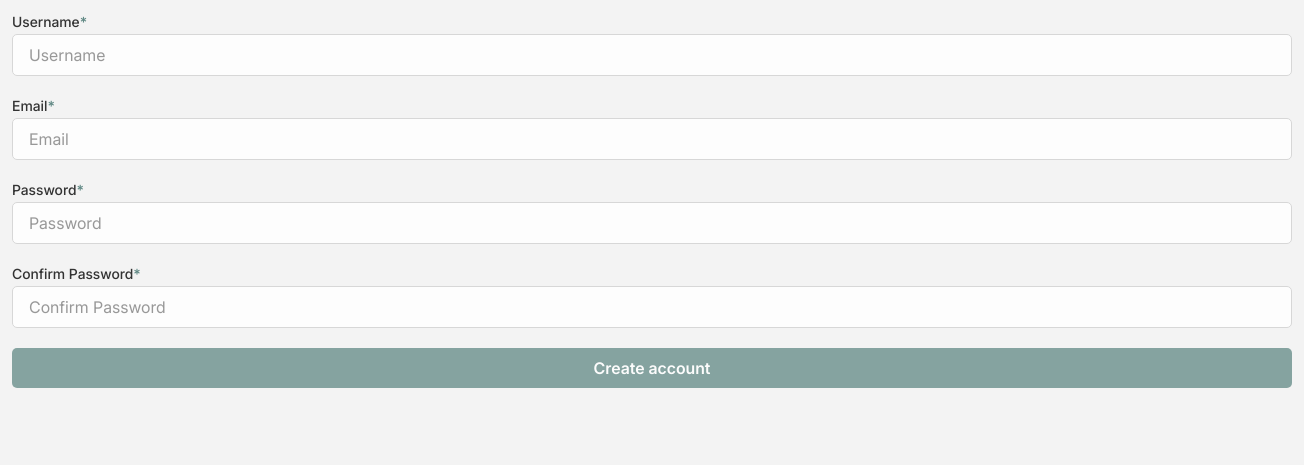
SignUpForm.tsx › should display error message to the root of the form for any other axios error
Type "username" into the field labelled "Username*" at (652, 55), box [12,34,1292,76]
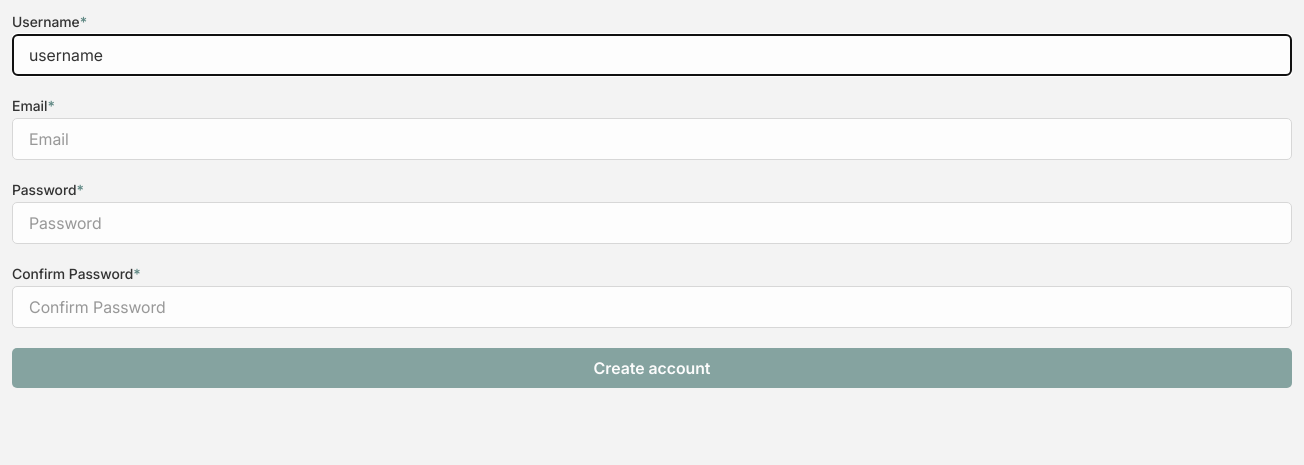
Type "email@email.com" into the field labelled "Email*" at (652, 139), box [12,118,1292,160]
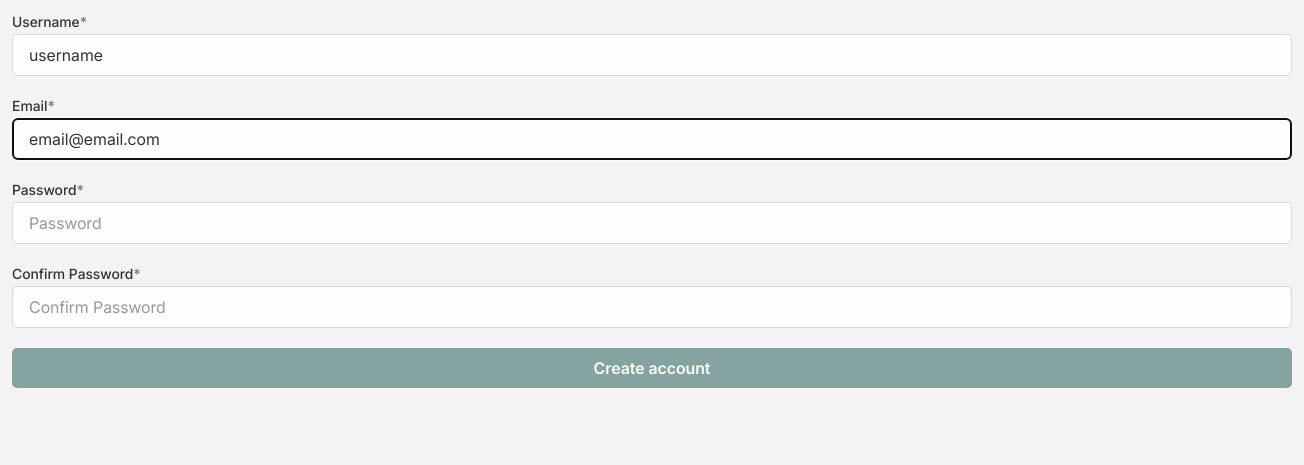
Type "!Password123" into the password field with placeholder "Password" at (652, 223), box [12,202,1292,244]
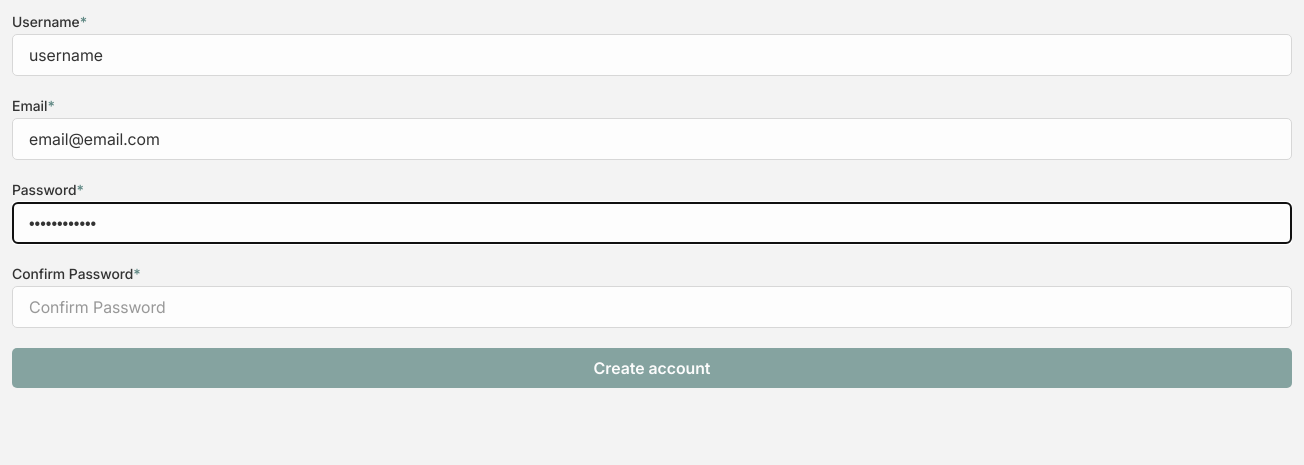
Type "!Password123" into the password field labelled "Confirm Password*" at (652, 307), box [12,286,1292,328]
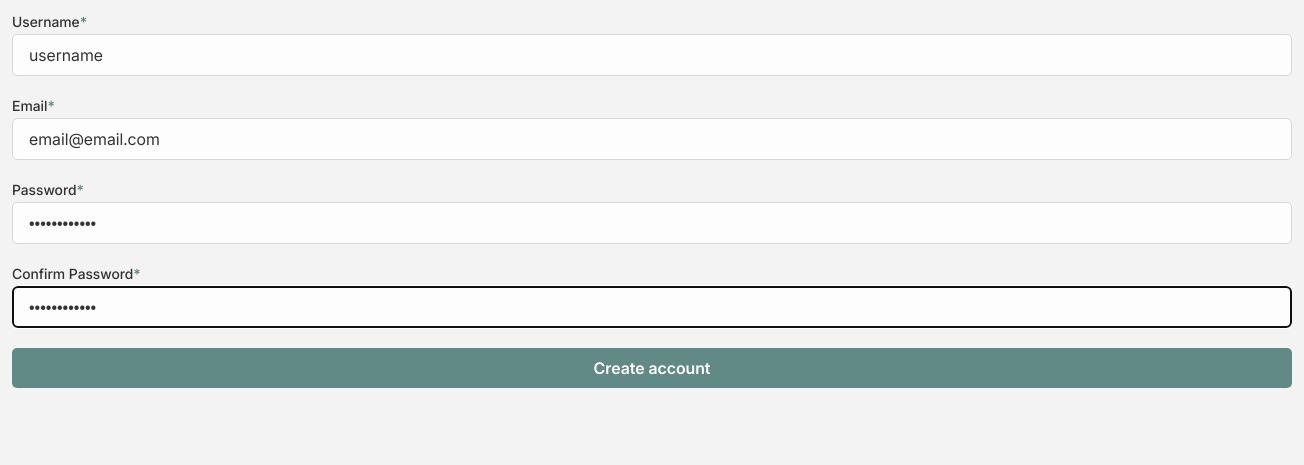
Click the button "Create account" at (652, 368), box [12,348,1292,388]
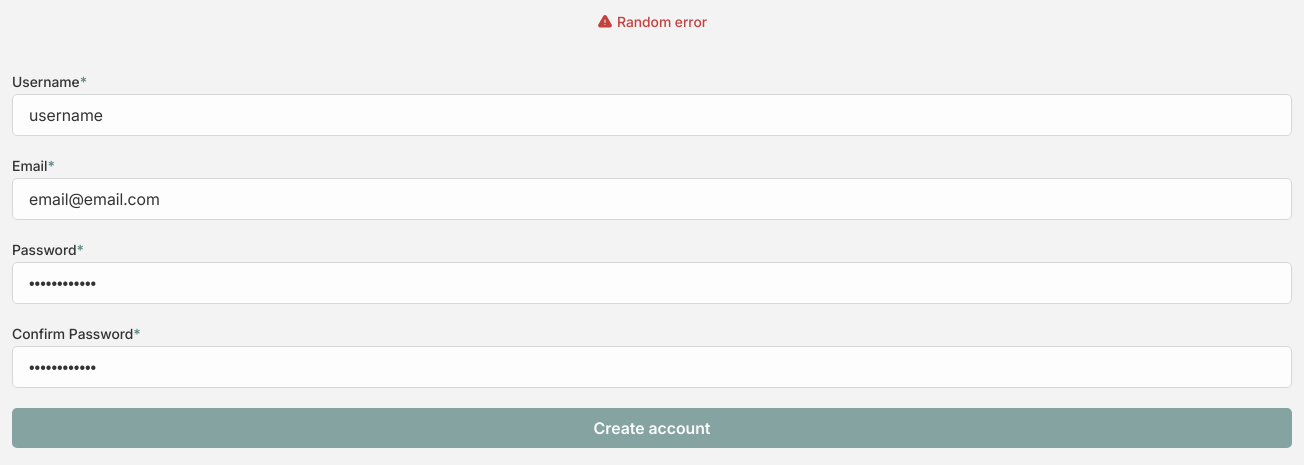
Check: the element with test id "rootError" is shown, box [597,13,707,30]
